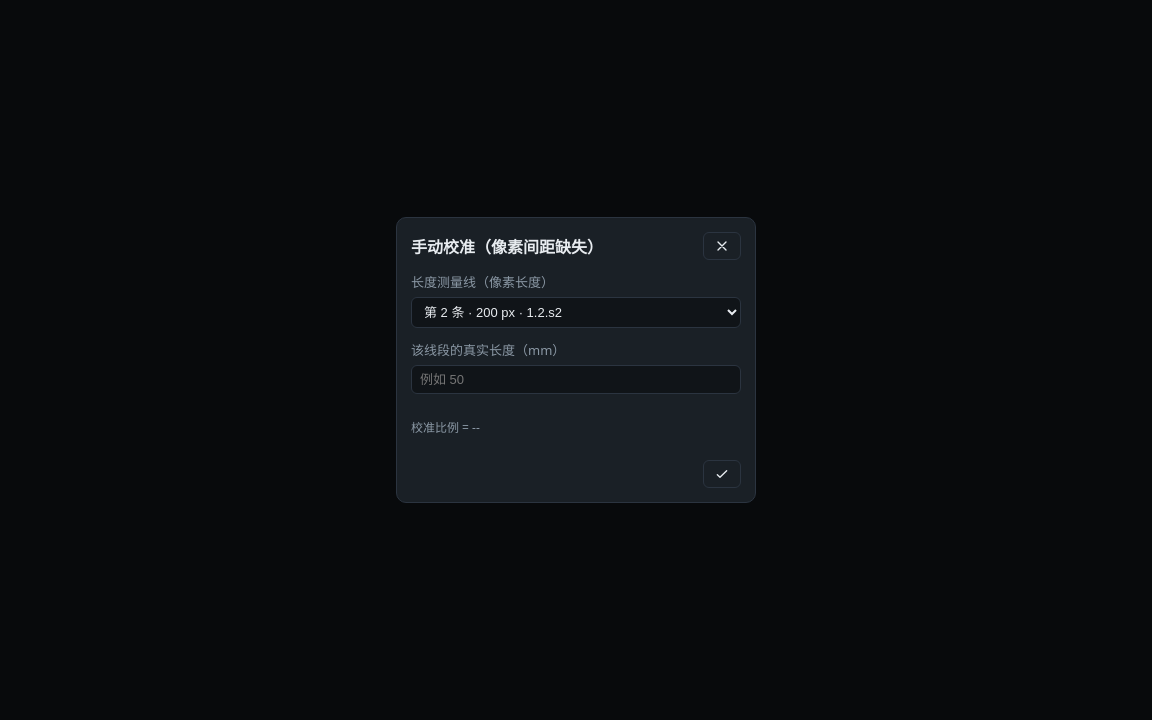
it: CalibrationPanel（FR-5.8） › 默认选中最后一条候选；预览比例随输入更新
Check: the dropdown named "选择长度测量线" shows "第 2 条 · 200 px · 1.2.s2", box [411,297,741,328]
Type "50" into the number field labelled "真实长度（mm）". click: (576, 380)
box: [411,365,741,394]
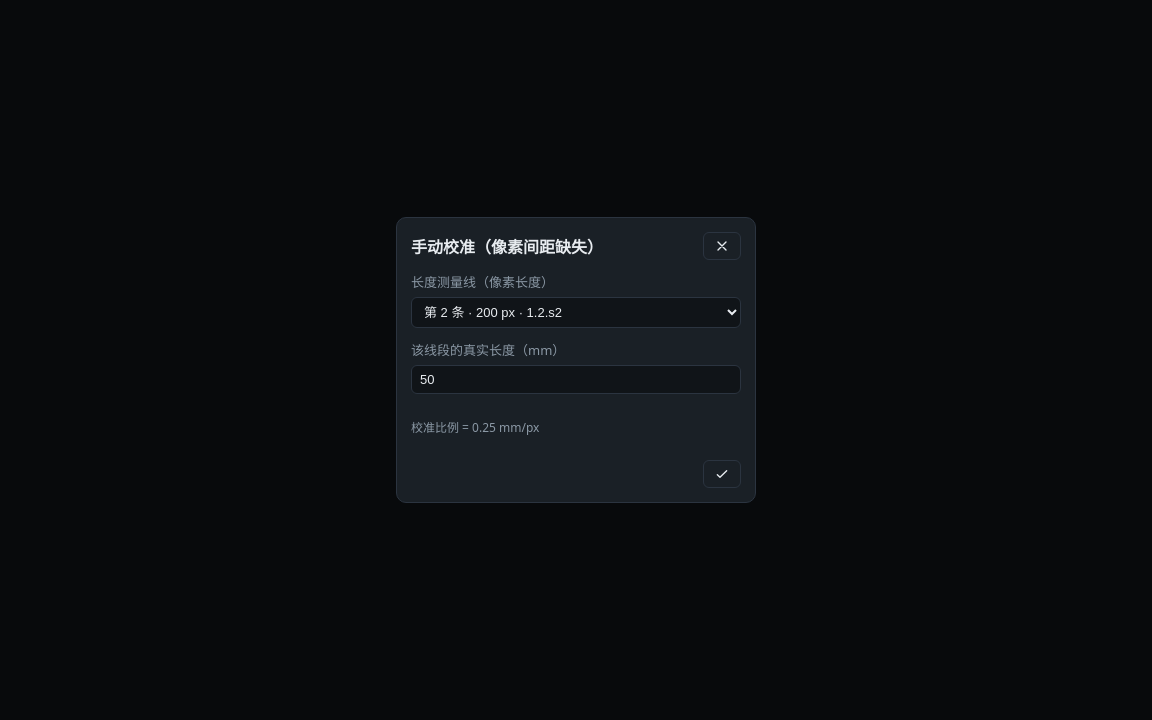
Check: the text "校准比例 = 0.25 mm/px" is shown, box [411,419,539,436]
